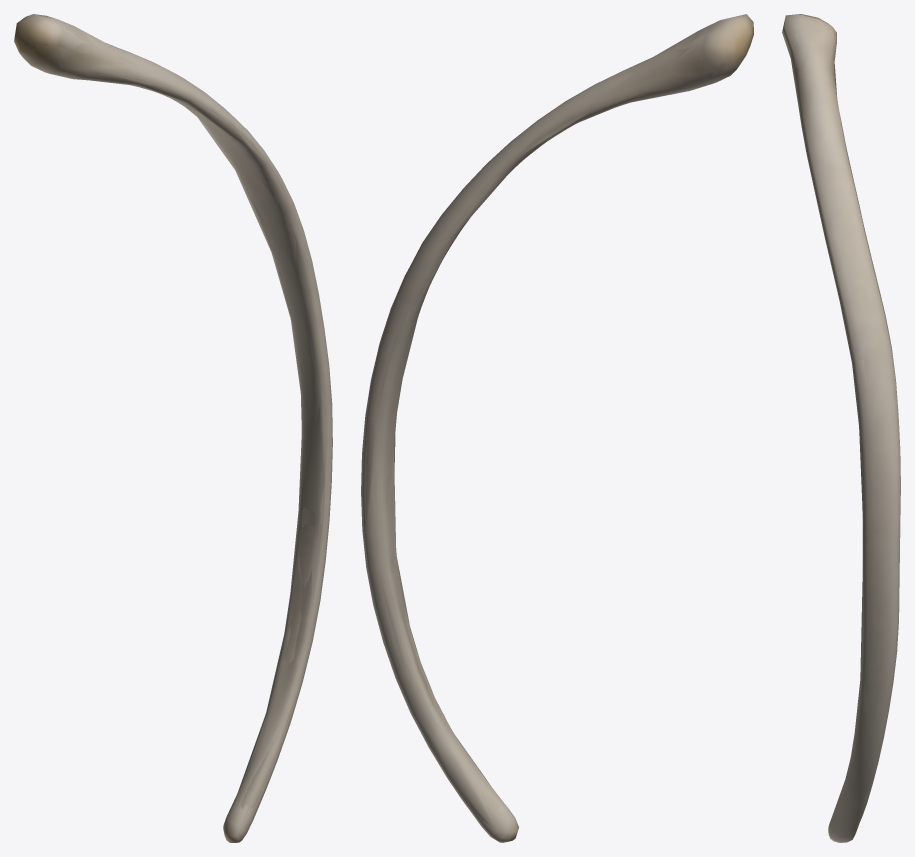
File: Rib L11.fbx
3 renders of one model, left to right at view 1: azimuth 30°, elevation 25°; view 2: azimuth 150°, elevation 25°; view 3: azimuth 270°, elevation 25°, orthographic. The views are drawn at different scales.
Visible parts, largest first — view 1: Rib L11 low, Rib L11, Rib L11 high; view 2: Rib L11, Rib L11 low, Rib L11 high; view 3: Rib L11, Rib L11 low, Rib L11 high.
Boxes of the visible parts, x1,y1,x2,y2 form: Rib L11 low: (15, 16, 332, 832); Rib L11: (14, 14, 332, 842); Rib L11 high: (17, 16, 329, 830); Rib L11: (361, 14, 753, 842); Rib L11 low: (362, 15, 752, 841); Rib L11 high: (365, 25, 740, 825); Rib L11: (782, 14, 900, 842); Rib L11 low: (782, 15, 900, 841); Rib L11 high: (790, 16, 897, 841).
Size of the model in its own units: 7.59 by 18.4 by 2.68.
Materials: 1 (1 with a texture image).
